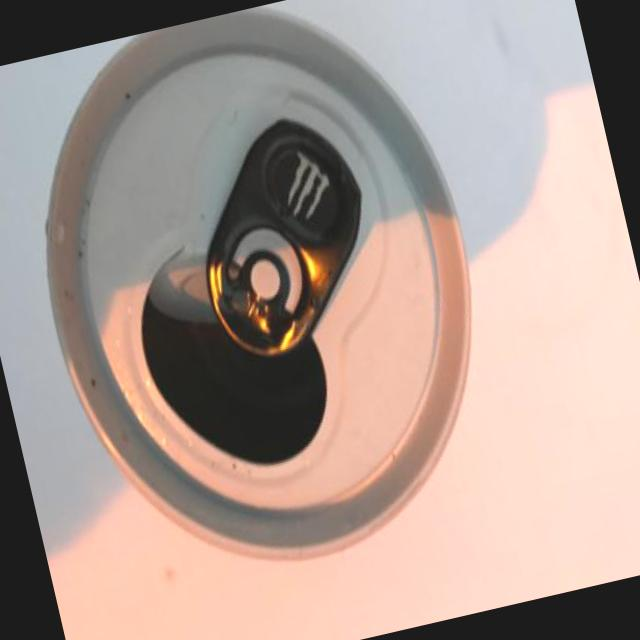kim_loai: (45, 12, 470, 558)
